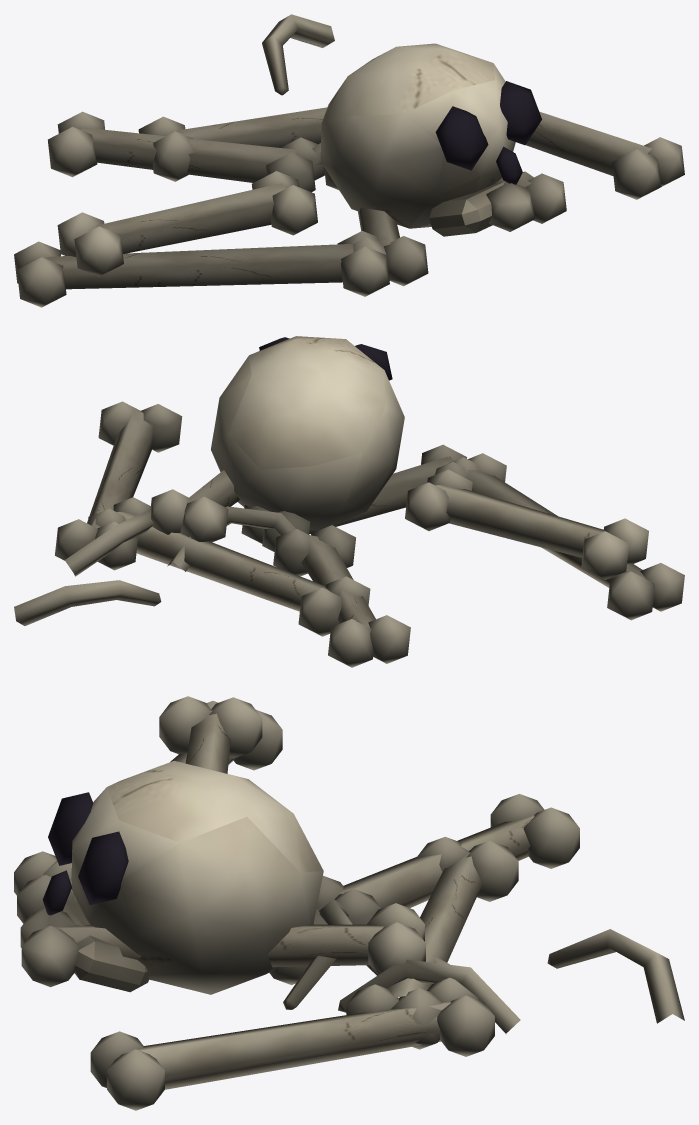
File: dng_bones.glb
3 views of the same model, one above another, from view 1: azimuth 30°, elevation 25°; view 2: azimuth 150°, elevation 25°; view 3: azimuth 270°, elevation 25° (orthographic). The views are drawn at different scales.
Visible parts, largest first — view 1: dng_bones; view 2: dng_bones; view 3: dng_bones.
Boxes of the visible parts, left/top/right/bottom form: dng_bones: left=14, top=14, right=684, bottom=307; dng_bones: left=14, top=336, right=684, bottom=667; dng_bones: left=14, top=696, right=684, bottom=1110.
Size of the model in its own units: 1.23 by 0.324 by 0.9335.
Materials: 2 (1 with a texture image).
